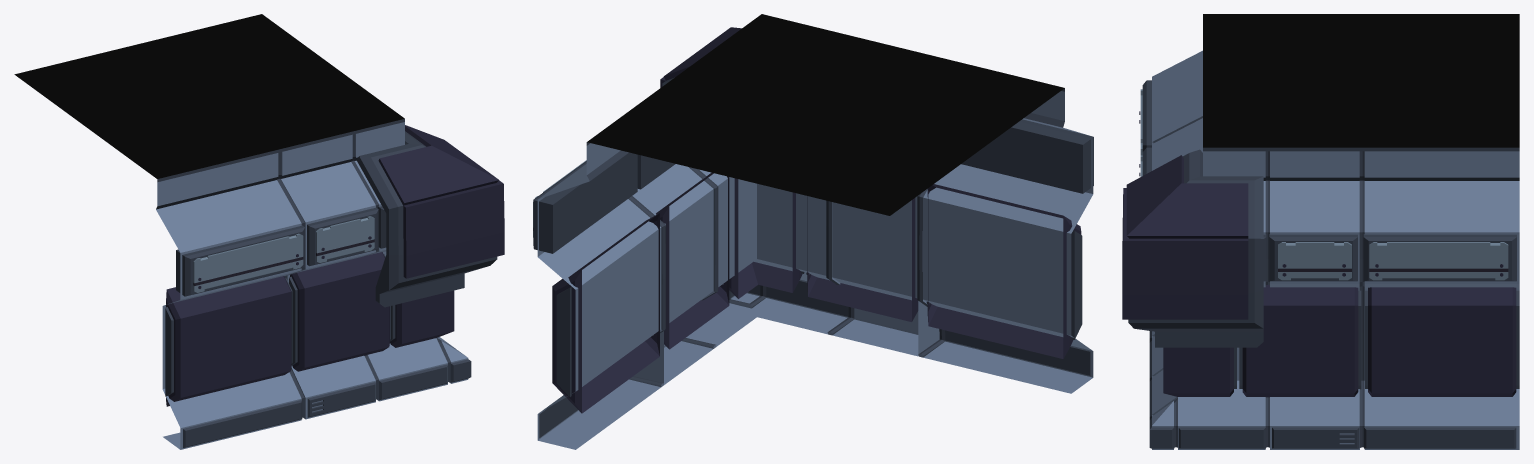
File: WallAngleB.fbx
3 renders of one model, left to right at view 1: azimuth 30°, elevation 25°; view 2: azimuth 150°, elevation 25°; view 3: azimuth 270°, elevation 25°, orthographic. The views are drawn at different scales.
Parts seen in each view (by area): view 1: WallAngleB; view 2: WallAngleB; view 3: WallAngleB.
Boxes of the visible parts, box(x1,y1,x2,y2) form: WallAngleB: box(14, 14, 504, 449); WallAngleB: box(533, 14, 1093, 449); WallAngleB: box(1122, 14, 1519, 449).
Bounding box in the file's own units: 432 × 337 × 432.
